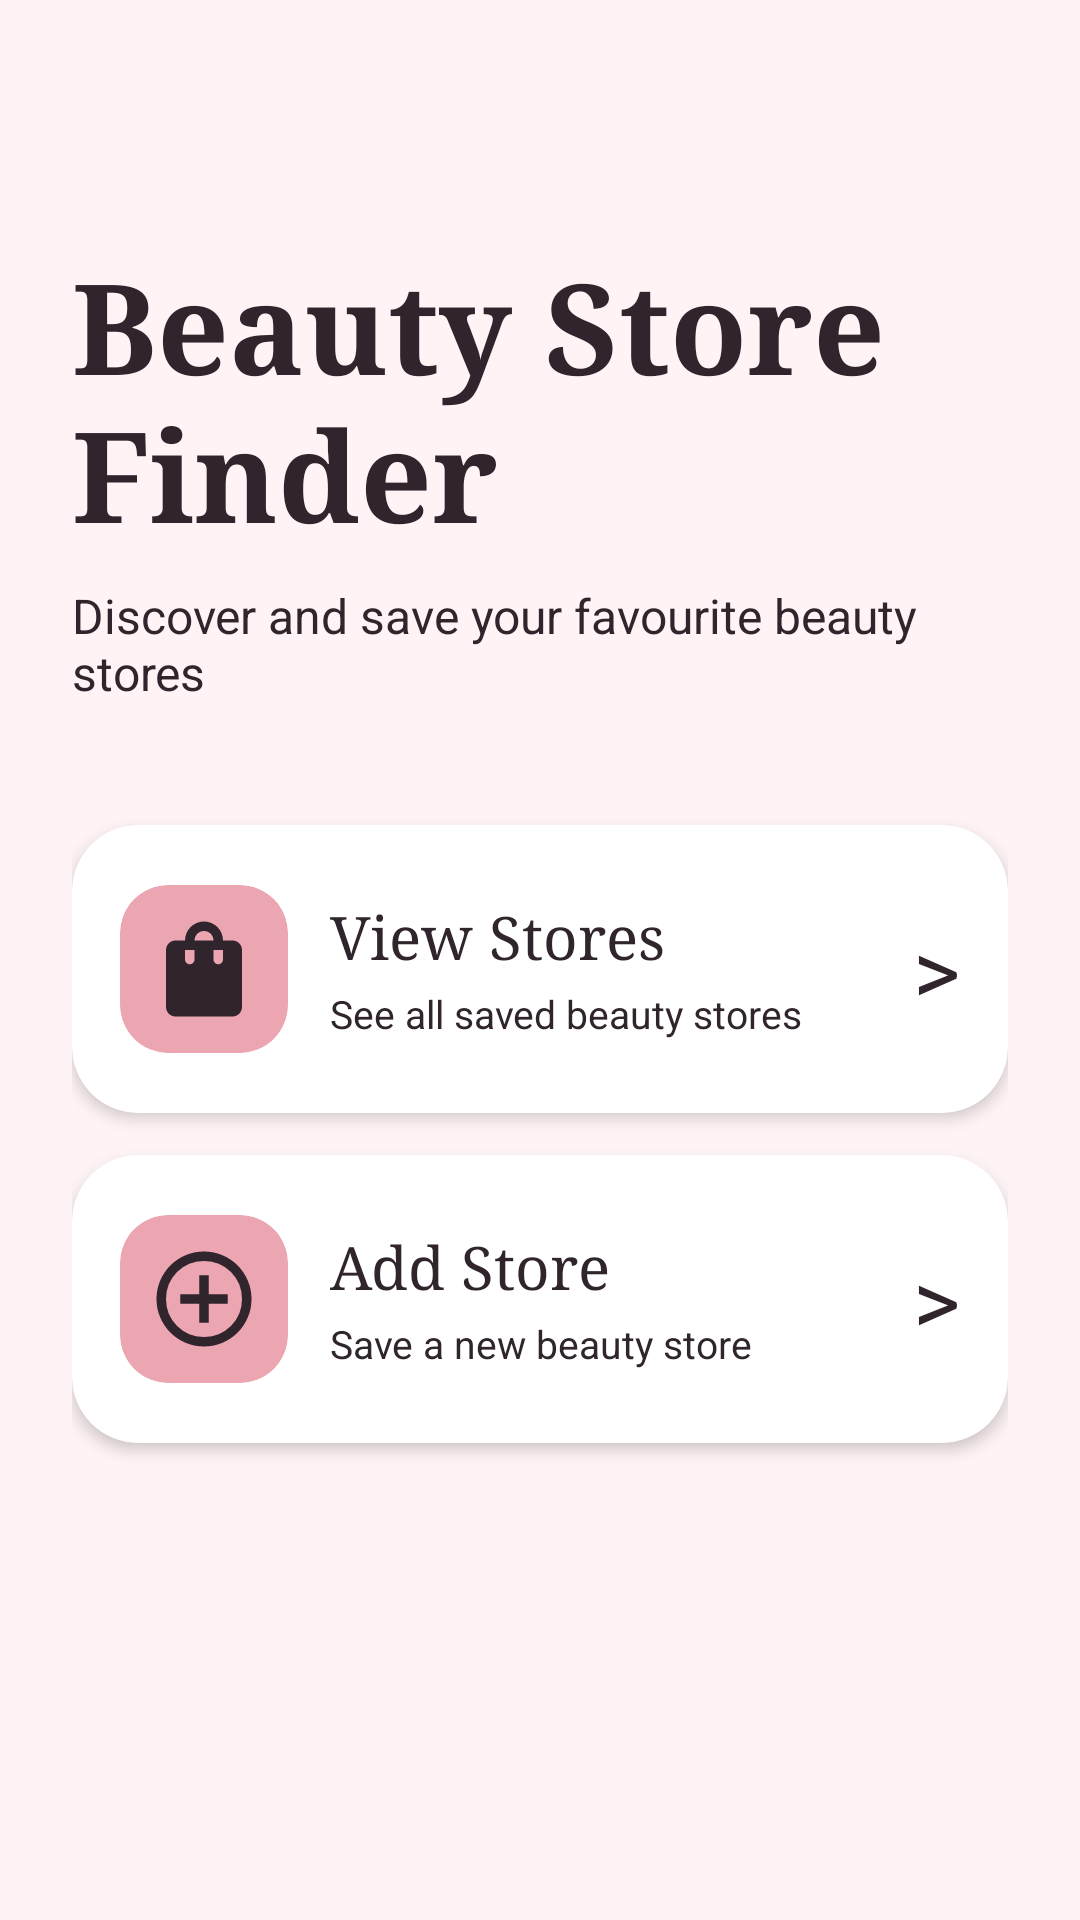

Named icons in this screenshot (1080 x 1920) and their centers, [x,y]:
shopping bag: [204,969]
